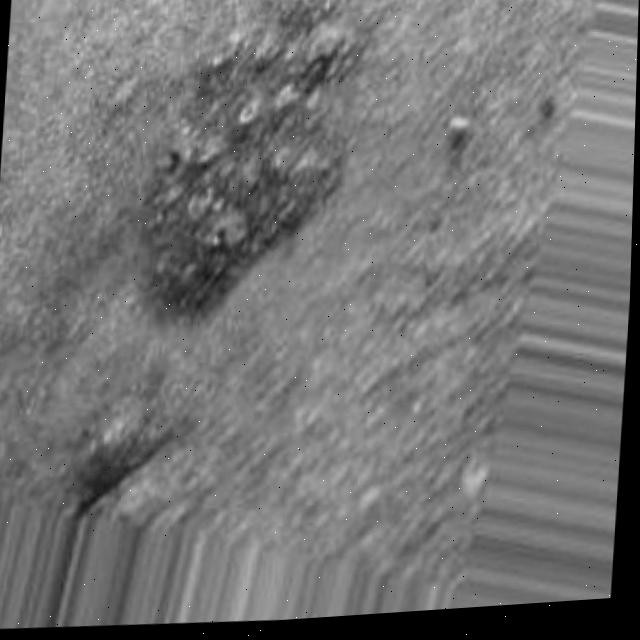Shingles: (135, 0, 381, 318)
